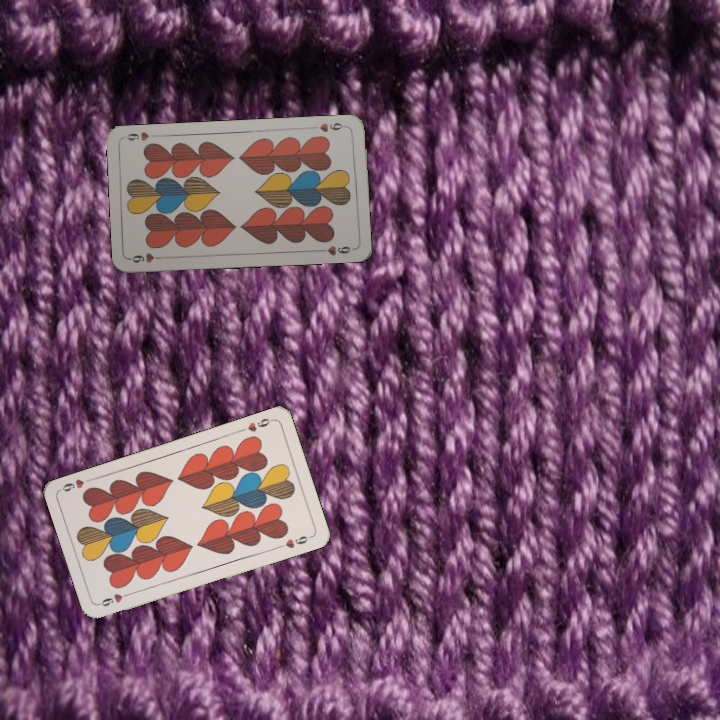H9: (236, 414, 276, 434), (95, 589, 135, 609), (309, 118, 349, 135), (127, 249, 167, 265)
